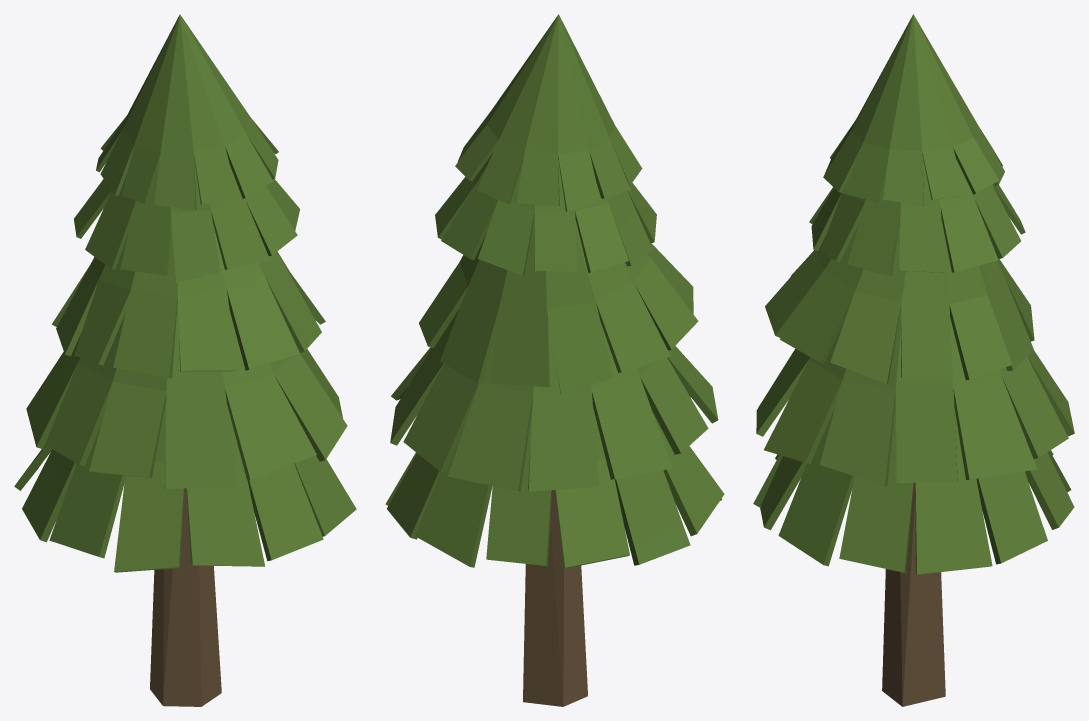
The model's file is Tree_19.fbx.
The picture shows the model from 3 angles, left to right: view 1: azimuth 30°, elevation 25°; view 2: azimuth 150°, elevation 25°; view 3: azimuth 270°, elevation 25°; orthographic projection.
Visible parts, largest first — view 1: Tree_19; view 2: Tree_19; view 3: Tree_19.
Part boxes in pixels (box(x1,y1,x2,y2)): Tree_19: box(14, 14, 356, 706); Tree_19: box(385, 14, 724, 706); Tree_19: box(753, 14, 1074, 706).
Bounding box in the file's own units: 155 × 354 × 153.
